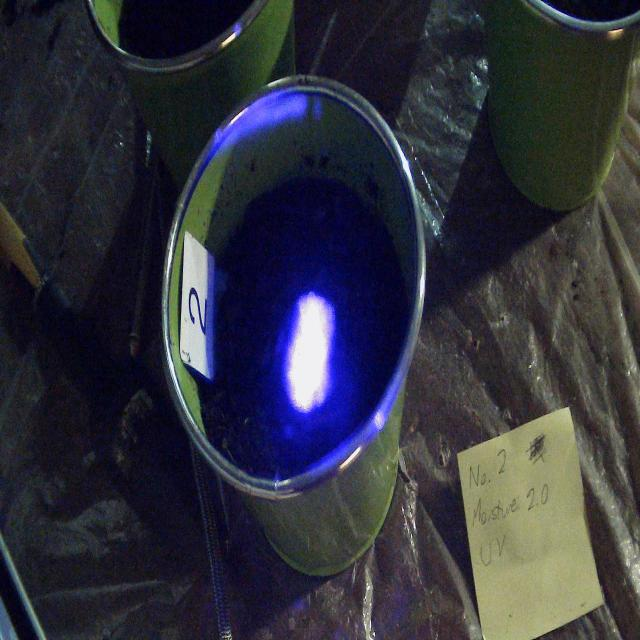soil-moisture-2.0: (283, 293, 335, 409)
